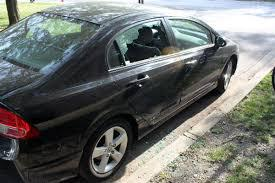doorouter-dent: (113, 21, 169, 72)
